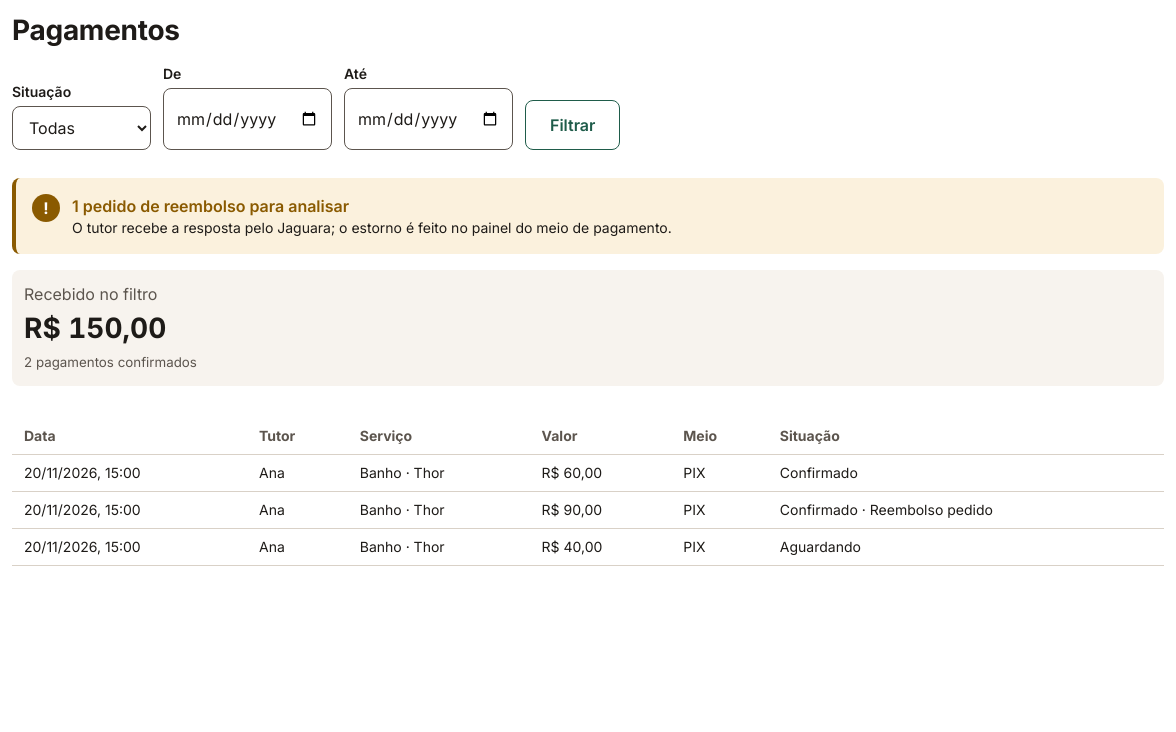
Scenario: UC-45 · Pagamentos recebidos na web › CT-45-01: deve listar os recebidos com o total e filtrar
The width and height of the screenshot is (1176, 732).
Expected: the text "R$ 150,00" is shown, [24, 311, 166, 345]
Expected: the text "2 pagamentos confirmados" is shown, [24, 354, 197, 370]
Step 1. Select "Cancelado" in the dropdown labelled "Situação" → (82, 128), box [12, 106, 151, 150]
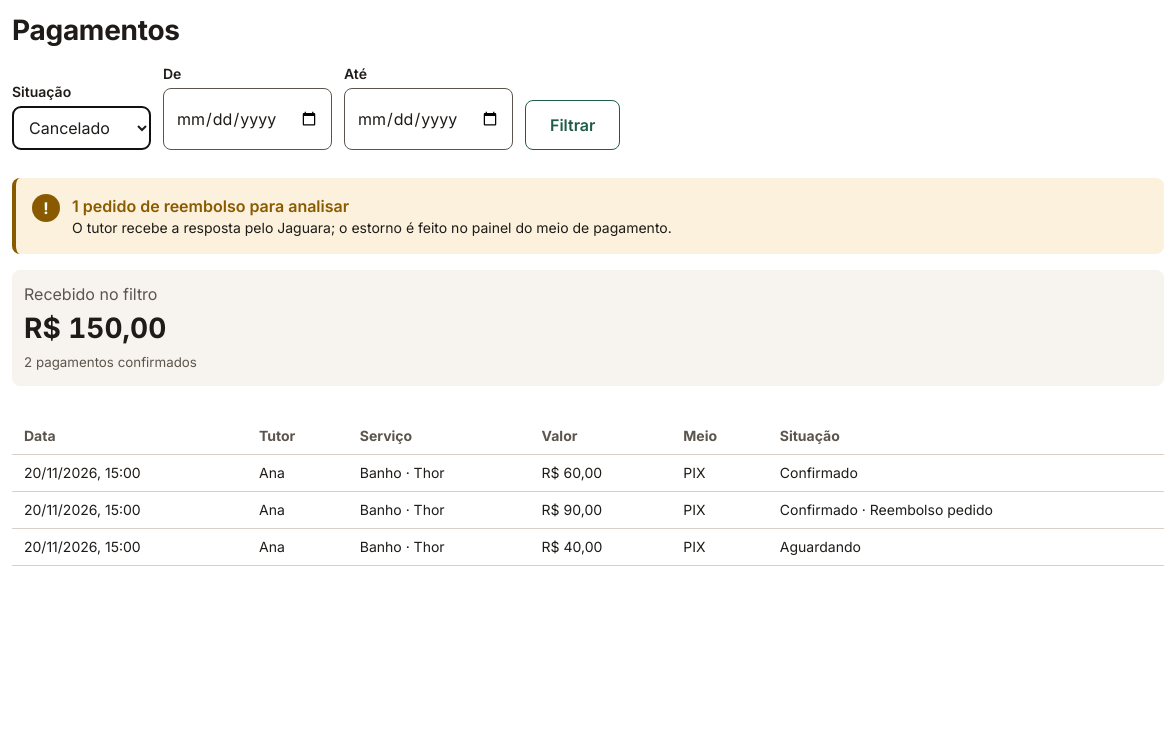
Step 2. Type "2026-11-01" into the date field labelled "De" → (248, 119), box [163, 88, 332, 150]
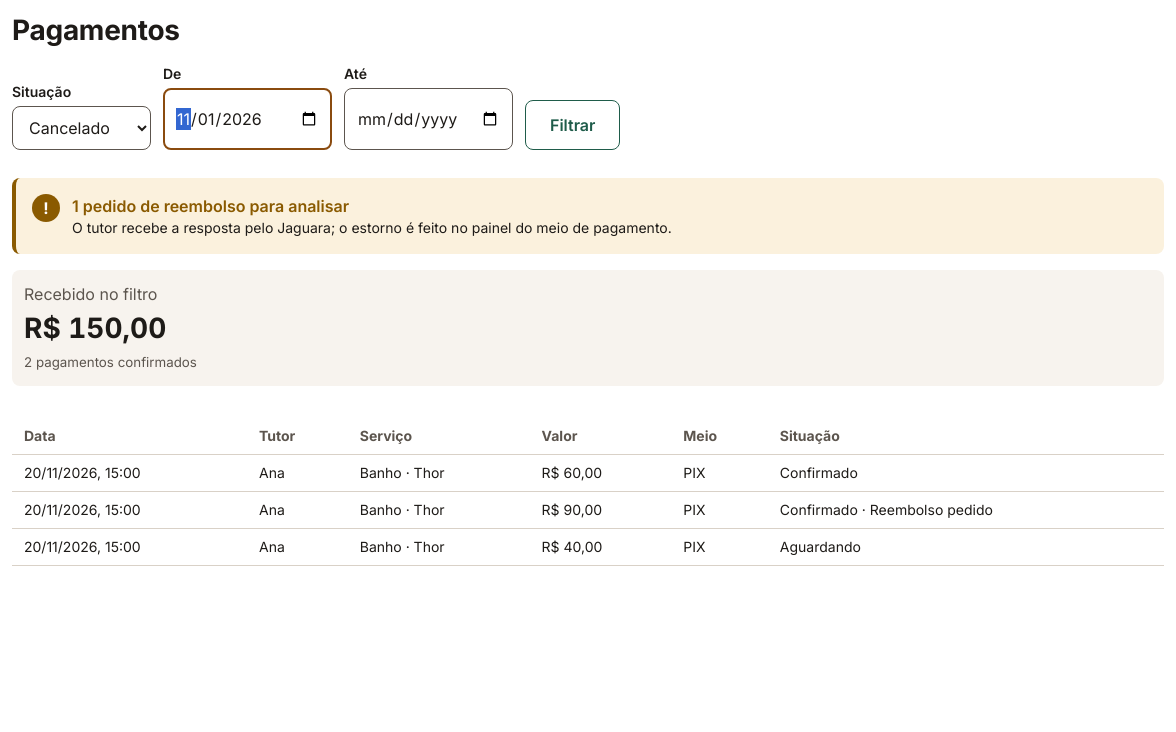
Step 3. Click the button "Filtrar" → (573, 125), box [525, 100, 620, 150]
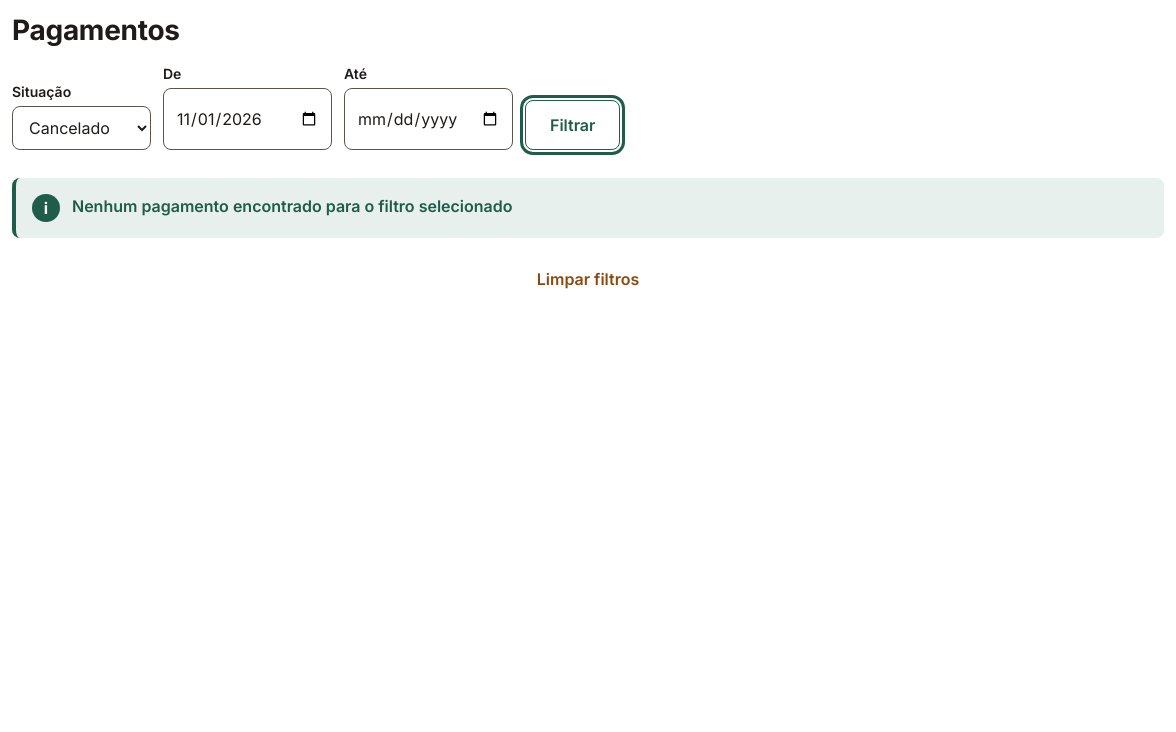
Now the text "Nenhum pagamento encontrado para o filtro selecionado" is shown, box [72, 194, 512, 218]
Step 4. Click the button "Limpar filtros" → (588, 279), box [12, 254, 1164, 304]
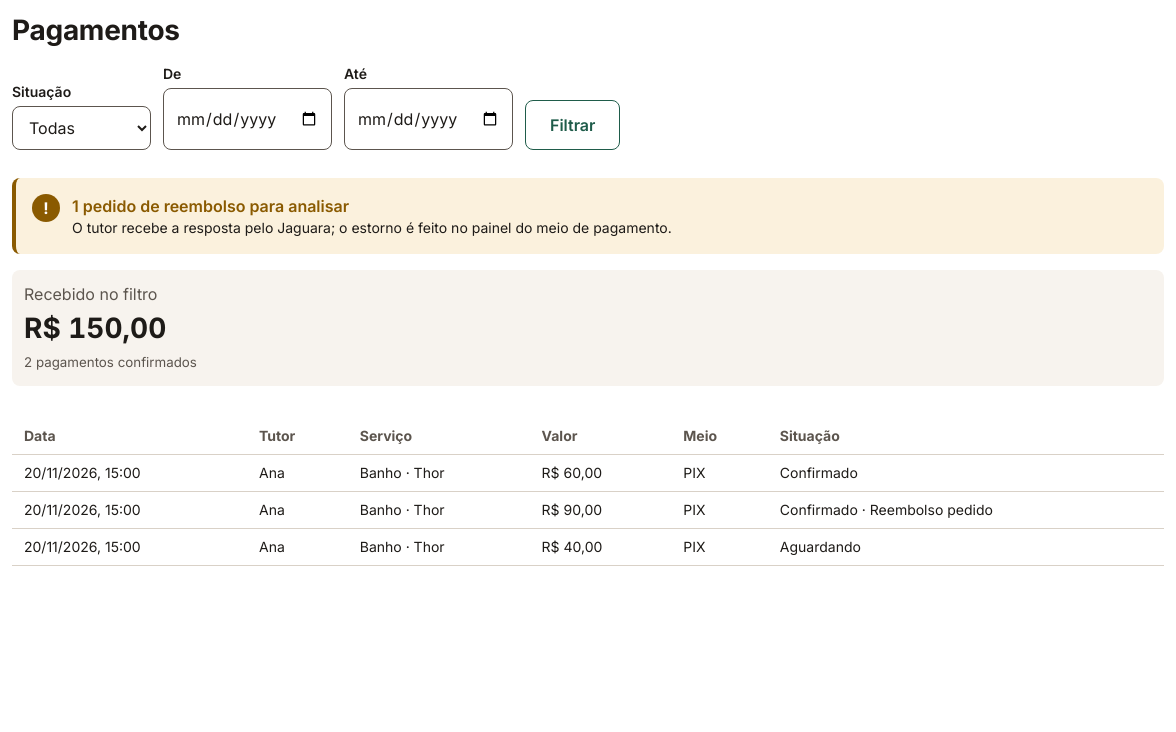
Now the text "R$ 150,00" is shown, box [24, 311, 166, 345]
